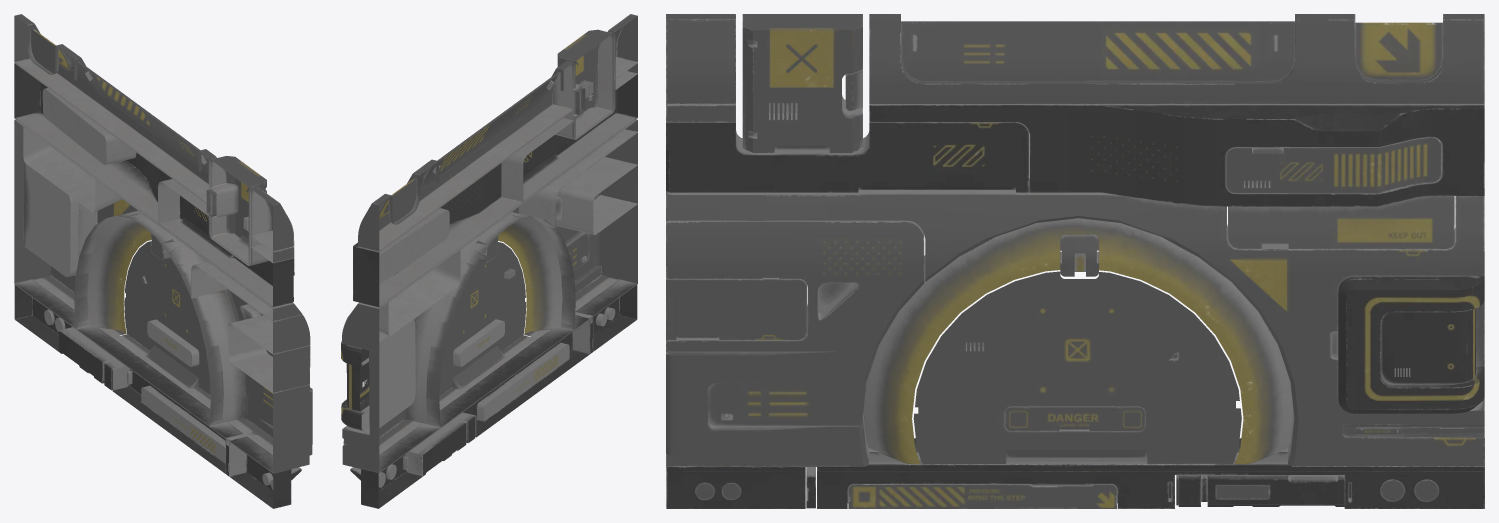
The model's file is wall34-opt.glb.
3 views of the same model, side by side, from view 1: azimuth 30°, elevation 25°; view 2: azimuth 150°, elevation 25°; view 3: azimuth 270°, elevation 25° (orthographic). The views are drawn at different scales.
Parts seen in each view (by area): view 1: Slice.034; view 2: Slice.034; view 3: Slice.034.
Part boxes in pixels (x1,y1,x2,y2): Slice.034: [14, 14, 312, 508]; Slice.034: [341, 14, 637, 508]; Slice.034: [666, 14, 1484, 508].
Bounding box in the file's own units: 0.4983 × 2.94 × 4.54.
Materials: 1 (1 with a texture image).
